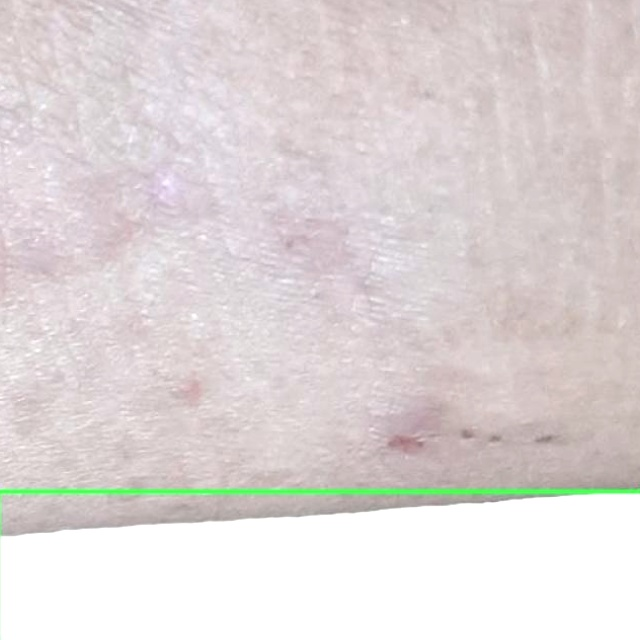Tinea Corporis: (0, 490, 639, 639)
